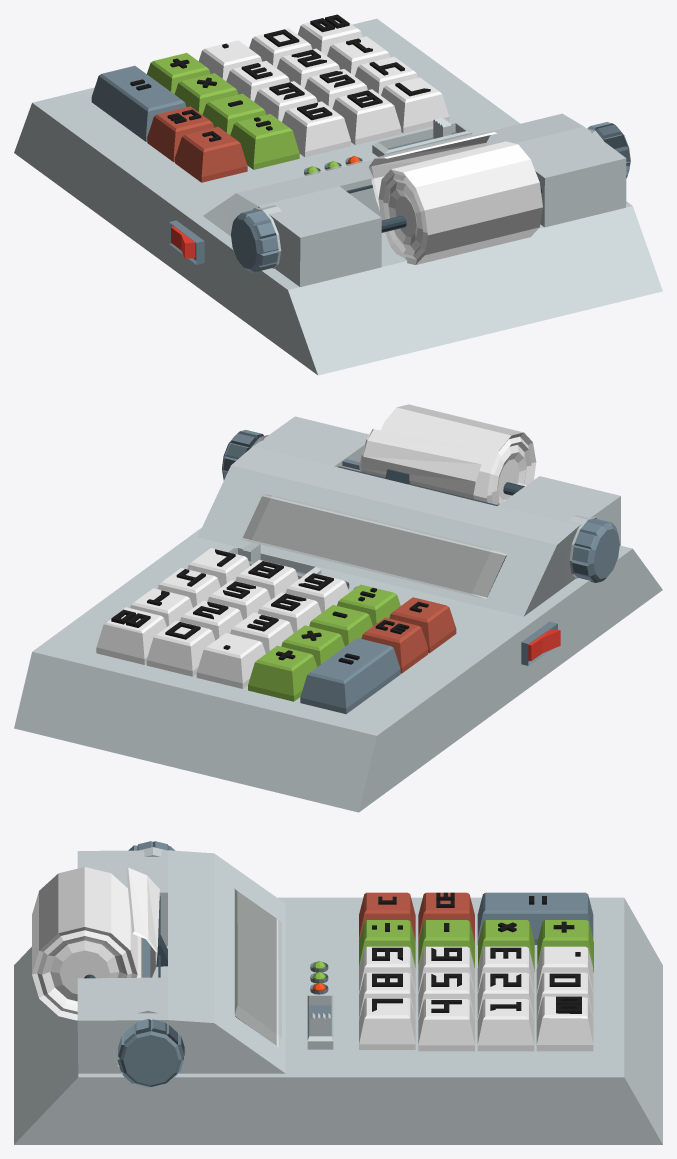
3 renders of one model, top to bottom at view 1: azimuth 30°, elevation 25°; view 2: azimuth 150°, elevation 25°; view 3: azimuth 270°, elevation 25°, orthographic. The views are drawn at different scales.
Parts seen in each view (by area): view 1: group1466548647, group48887536, group1325531539, group23065195, group389477461003, group1297306164, group502161026, group1294525603, group2058303266, group595121944, group1065846868, group389477461002 (+15 smaller); view 2: group1466548647, group48887536, group127134564, group1325531539, group1065846868, group23065195, group2033548222, group454468518, group389477461001, group595121944, group1280017540, group389477461003 (+16 smaller); view 3: group1466548647, group48887536, group1325531539, group127134564, group74567260, group23065195, group2033548222, group1296408862, group1587545857, group2058303266, group1065846868, group454468518 (+15 smaller).
Boxes of the visible parts, x1,y1,x2,y2 form: group1466548647: (14, 18, 662, 375); group48887536: (203, 113, 626, 287); group1325531539: (378, 141, 542, 265); group23065195: (91, 65, 186, 141); group389477461003: (175, 126, 247, 182); group1297306164: (282, 101, 350, 157); group502161026: (332, 89, 401, 145); group1294525603: (230, 114, 299, 169); group2058303266: (381, 77, 449, 133); group595121944: (231, 209, 278, 273); group1065846868: (368, 132, 496, 210); group389477461002: (147, 106, 213, 162); group1466548647: (14, 527, 662, 812); group48887536: (198, 416, 620, 616); group127134564: (240, 494, 506, 598); group1325531539: (381, 404, 536, 505); group1065846868: (359, 429, 489, 499); group23065195: (300, 638, 400, 714); group2033548222: (96, 607, 166, 664); group454468518: (196, 633, 265, 688); group389477461001: (248, 645, 316, 701); group595121944: (572, 519, 619, 582); group1280017540: (146, 621, 215, 676); group389477461003: (389, 597, 456, 653); group1466548647: (14, 897, 662, 1144); group48887536: (77, 850, 285, 1073); group1325531539: (32, 867, 137, 1020); group127134564: (234, 888, 281, 1047); group74567260: (117, 1019, 184, 1087); group23065195: (477, 892, 593, 944); group2033548222: (536, 996, 593, 1051); group1296408862: (477, 999, 534, 1051); group1587545857: (418, 999, 474, 1051); group2058303266: (359, 998, 415, 1049); group1065846868: (126, 867, 159, 977); group454468518: (536, 946, 593, 994).
Bounding box in the file's own units: 1.81 × 0.7031 × 2.52.
